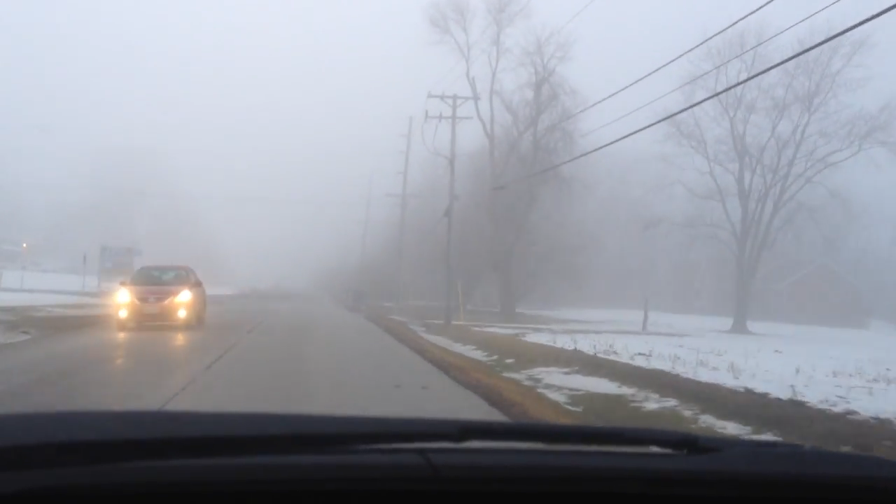car: (114, 263, 208, 329)
